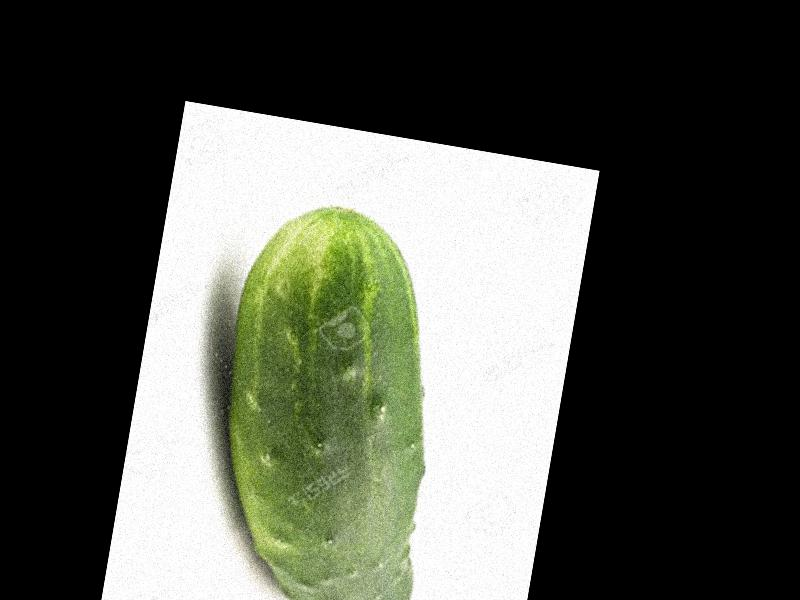Cucumber: (186, 192, 473, 600)
